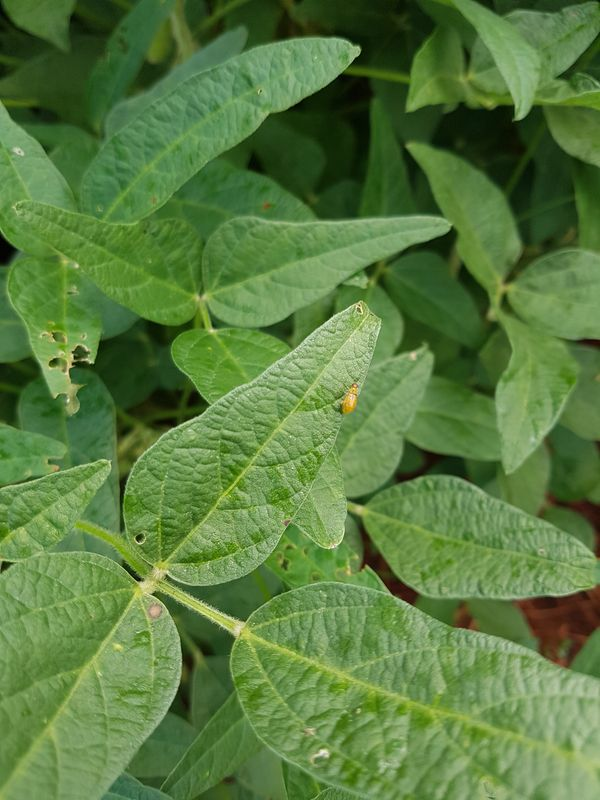Diabrotica_speciosa: (334, 378, 364, 420)
